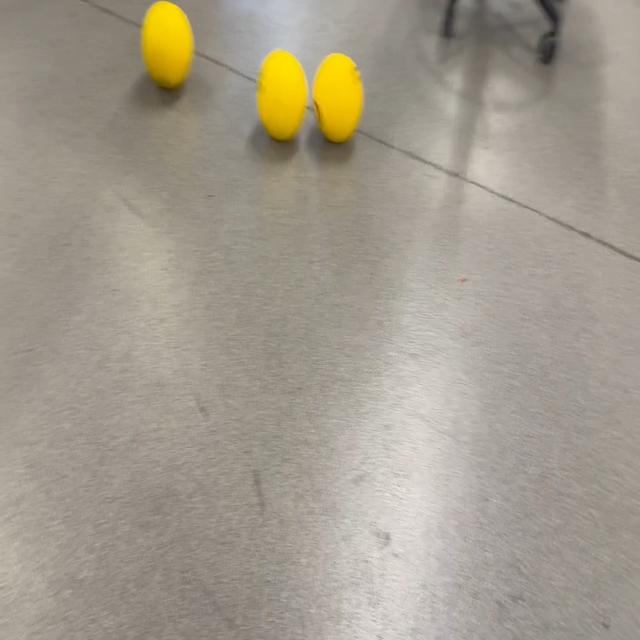Fuel: (256, 49, 309, 142), (140, 0, 194, 90), (312, 53, 363, 143)
